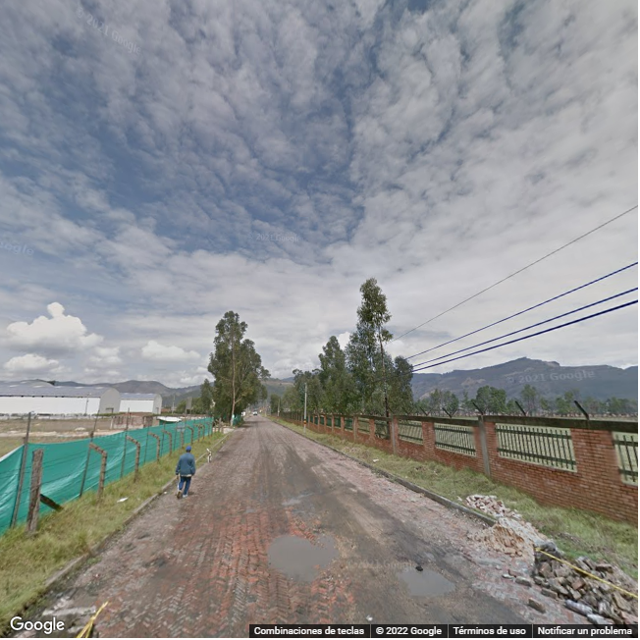D40: (261, 522, 344, 583), (405, 566, 455, 595)
